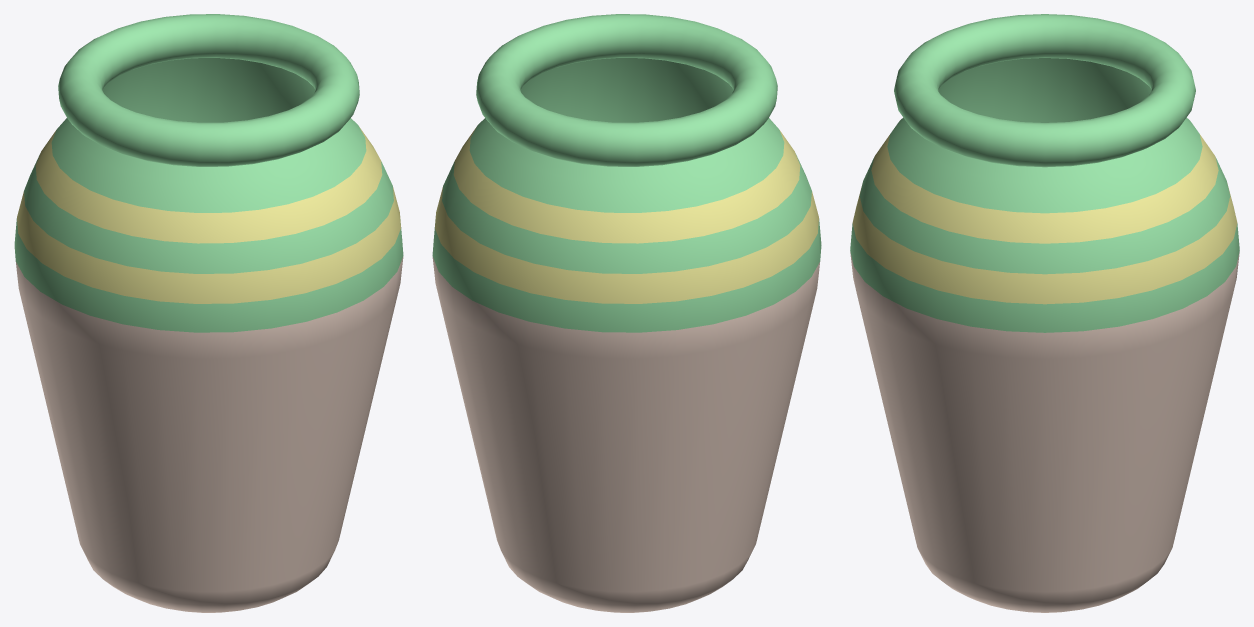
File: pottery_big.fbx
The picture shows the model from 3 angles, left to right: view 1: azimuth 30°, elevation 25°; view 2: azimuth 150°, elevation 25°; view 3: azimuth 270°, elevation 25°; orthographic projection.
Parts seen in each view (by area): view 1: pottery_big, rim; view 2: pottery_big, rim; view 3: pottery_big, rim.
Part boxes in pixels (x1,y1,x2,y2): pottery_big: (14, 58, 403, 612); rim: (58, 14, 359, 166); pottery_big: (432, 58, 821, 612); rim: (476, 14, 777, 166); pottery_big: (850, 58, 1239, 612); rim: (894, 14, 1195, 167).
Size of the model in its own units: 3.97 by 5.71 by 3.97.
